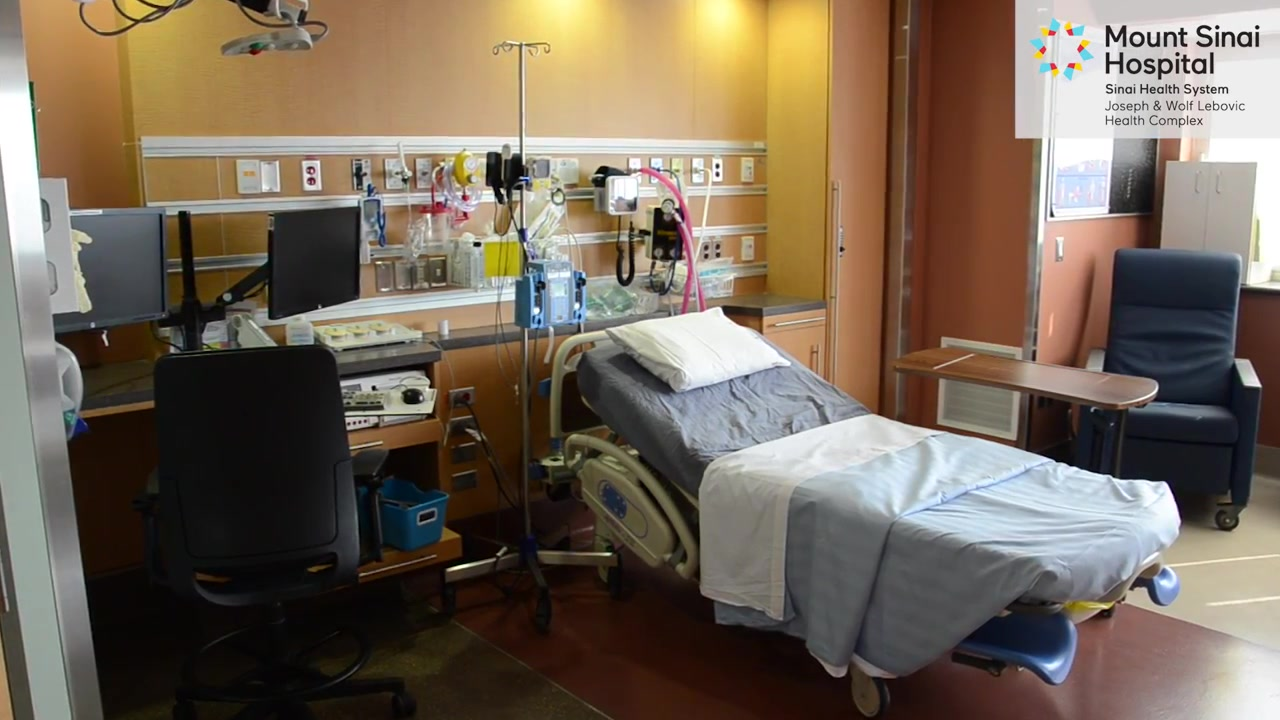bedrail: (562, 435, 701, 580)
breathing_tube: (639, 167, 705, 315)
chair: (130, 348, 416, 720)
computer: (70, 205, 168, 333), (267, 207, 362, 322)
dispenser: (54, 345, 92, 445)
handle: (830, 180, 845, 386), (769, 316, 826, 331), (809, 342, 822, 376), (1213, 170, 1225, 198), (1192, 170, 1202, 198)
hospital_bed: (550, 304, 1180, 720)
infusion_pump: (513, 259, 587, 329)
iv_pole: (491, 39, 555, 552)
mouse: (403, 385, 425, 405)
overbed_table: (893, 347, 1158, 480)
sofa: (1070, 248, 1265, 534)
